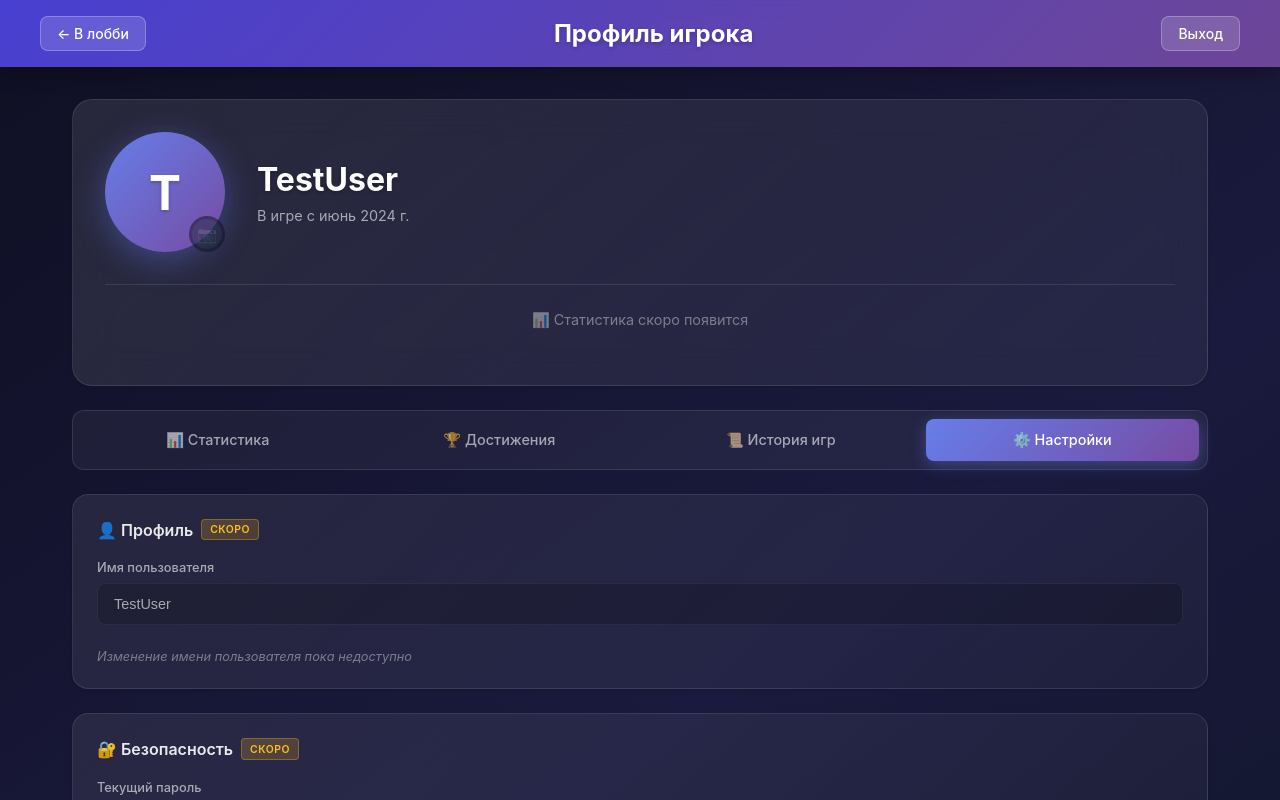
Scenario: ProfilePage › переключается на таб истории игр
Click the button "📜 История игр": (781, 440) [644,419,918,461]
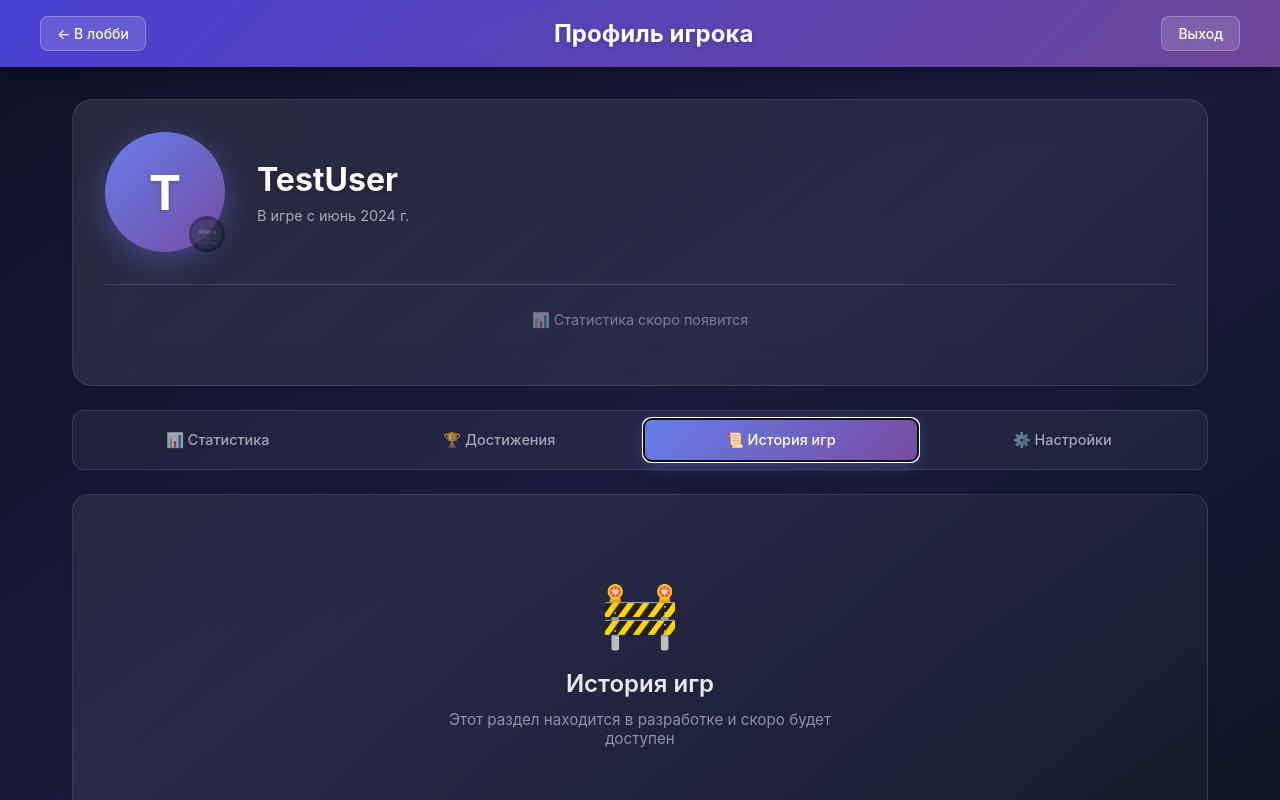
Check: the text "Этот раздел находится в разработке и скоро будет доступен" is shown, box [440,710,840,748]
